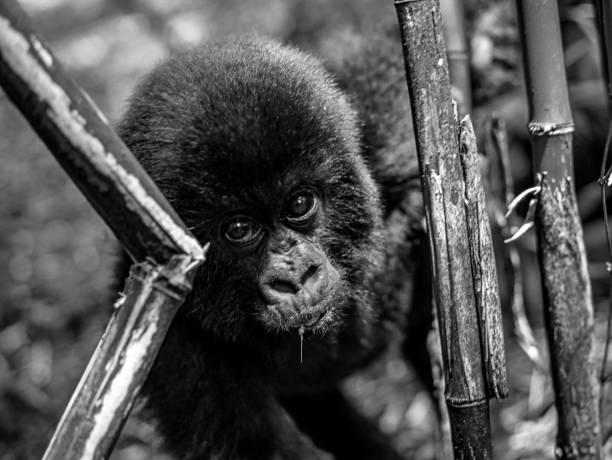goriile_montagne: (88, 26, 519, 460)
